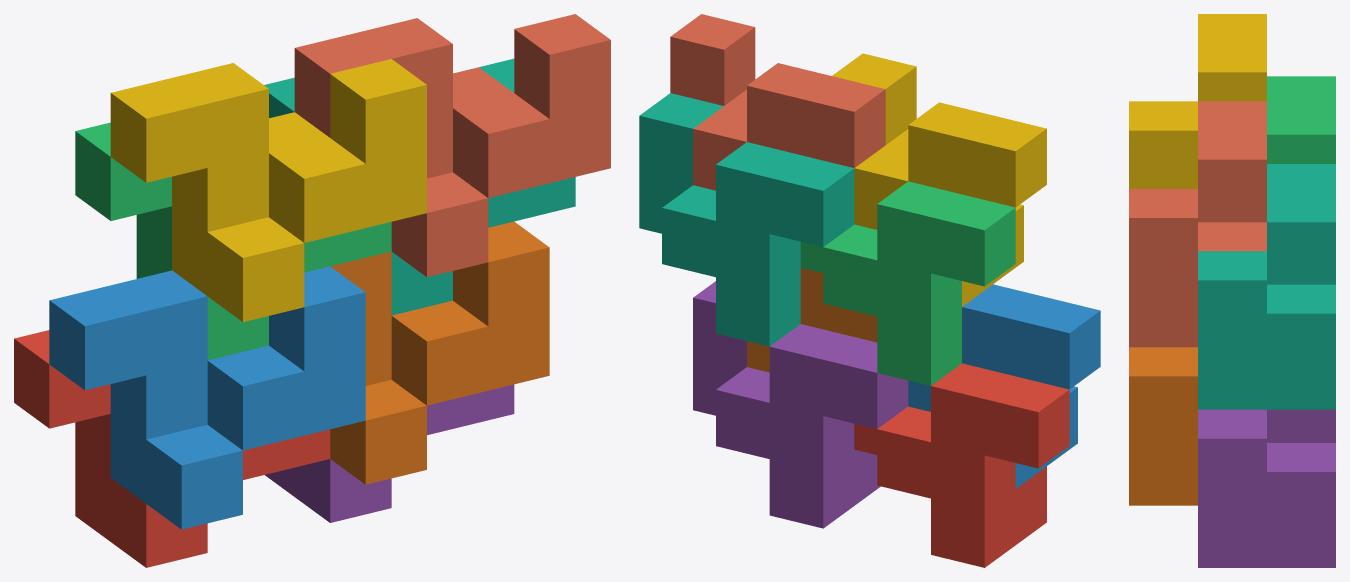
Rendered from tiling.obj.
3 views of the same model, side by side, from view 1: azimuth 30°, elevation 25°; view 2: azimuth 150°, elevation 25°; view 3: azimuth 270°, elevation 25° (orthographic). The views are drawn at different scales.
Visible parts, largest first — view 1: copy_1_domain_4, copy_1_domain_2, copy_1_domain_8, copy_1_domain_6, copy_1_domain_1, copy_1_domain_3, copy_1_domain_5, copy_1_domain_7; view 2: copy_1_domain_7, copy_1_domain_5, copy_1_domain_1, copy_1_domain_3, copy_1_domain_8, copy_1_domain_4, copy_1_domain_2, copy_1_domain_6; view 3: copy_1_domain_7, copy_1_domain_5, copy_1_domain_8, copy_1_domain_4, copy_1_domain_6, copy_1_domain_3.
Part boxes in pixels (<box>): copy_1_domain_4: <box>110,59,426,321</box>; copy_1_domain_2: <box>49,266,365,529</box>; copy_1_domain_8: <box>294,14,610,277</box>; copy_1_domain_6: <box>330,221,549,484</box>; copy_1_domain_1: <box>14,330,330,567</box>; copy_1_domain_3: <box>75,122,391,360</box>; copy_1_domain_5: <box>265,384,514,522</box>; copy_1_domain_7: <box>264,58,575,315</box>; copy_1_domain_7: <box>639,93,854,346</box>; copy_1_domain_5: <box>693,281,908,528</box>; copy_1_domain_1: <box>854,363,1069,567</box>; copy_1_domain_3: <box>800,181,1015,385</box>; copy_1_domain_8: <box>670,14,885,190</box>; copy_1_domain_4: <box>832,53,1046,306</box>; copy_1_domain_2: <box>908,284,1100,488</box>; copy_1_domain_6: <box>747,268,877,372</box>; copy_1_domain_7: <box>1198,164,1335,409</box>; copy_1_domain_5: <box>1198,409,1335,567</box>; copy_1_domain_8: <box>1129,101,1266,347</box>; copy_1_domain_4: <box>1129,14,1266,188</box>; copy_1_domain_6: <box>1129,347,1197,505</box>; copy_1_domain_3: <box>1267,76,1335,163</box>.
Size of the model in its own units: 8 by 7 by 3.
